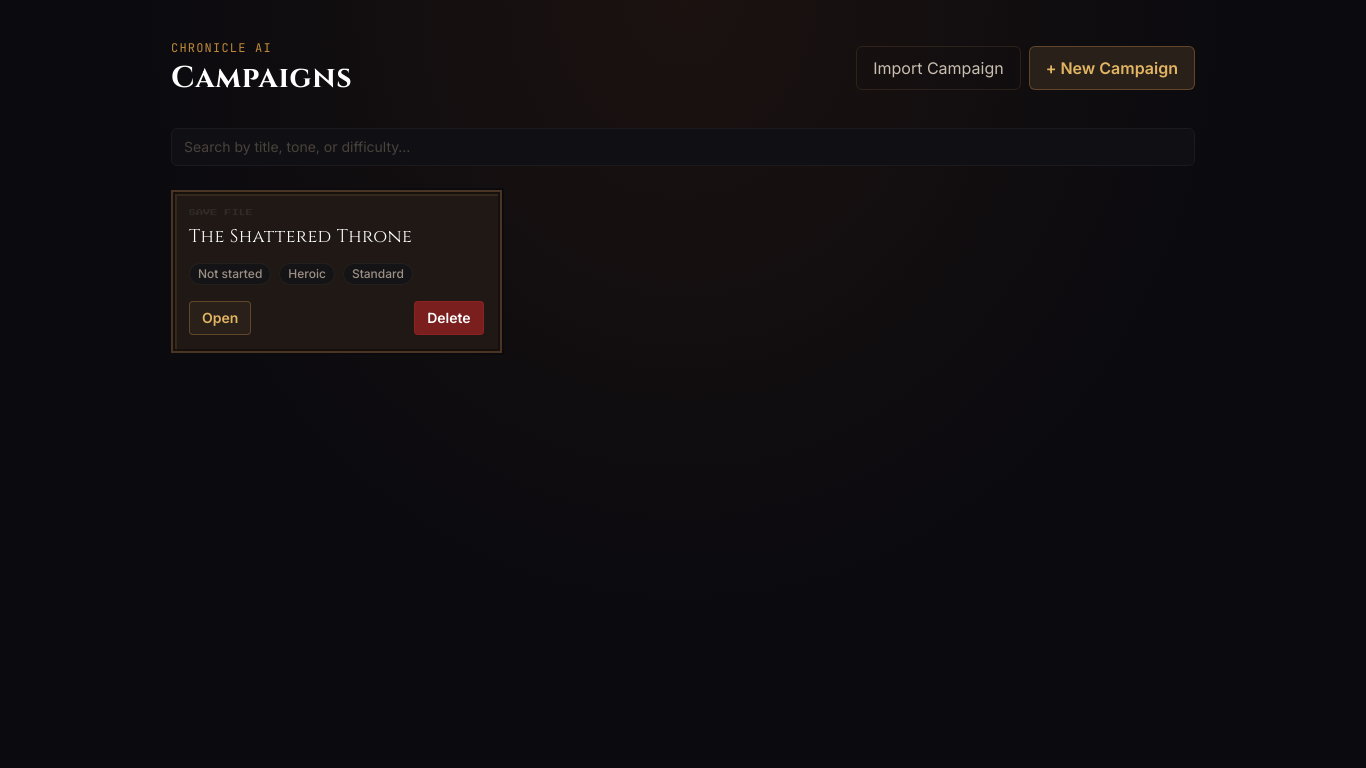
it: CampaignLibraryPage — delete › opens a confirm dialog when Delete is clicked, does not delete immediately
The width and height of the screenshot is (1366, 768).
Check: the heading "The Shattered Throne" is shown, box [189,224,412,248]
Click the button "Delete": (449,318) [414,300,484,334]
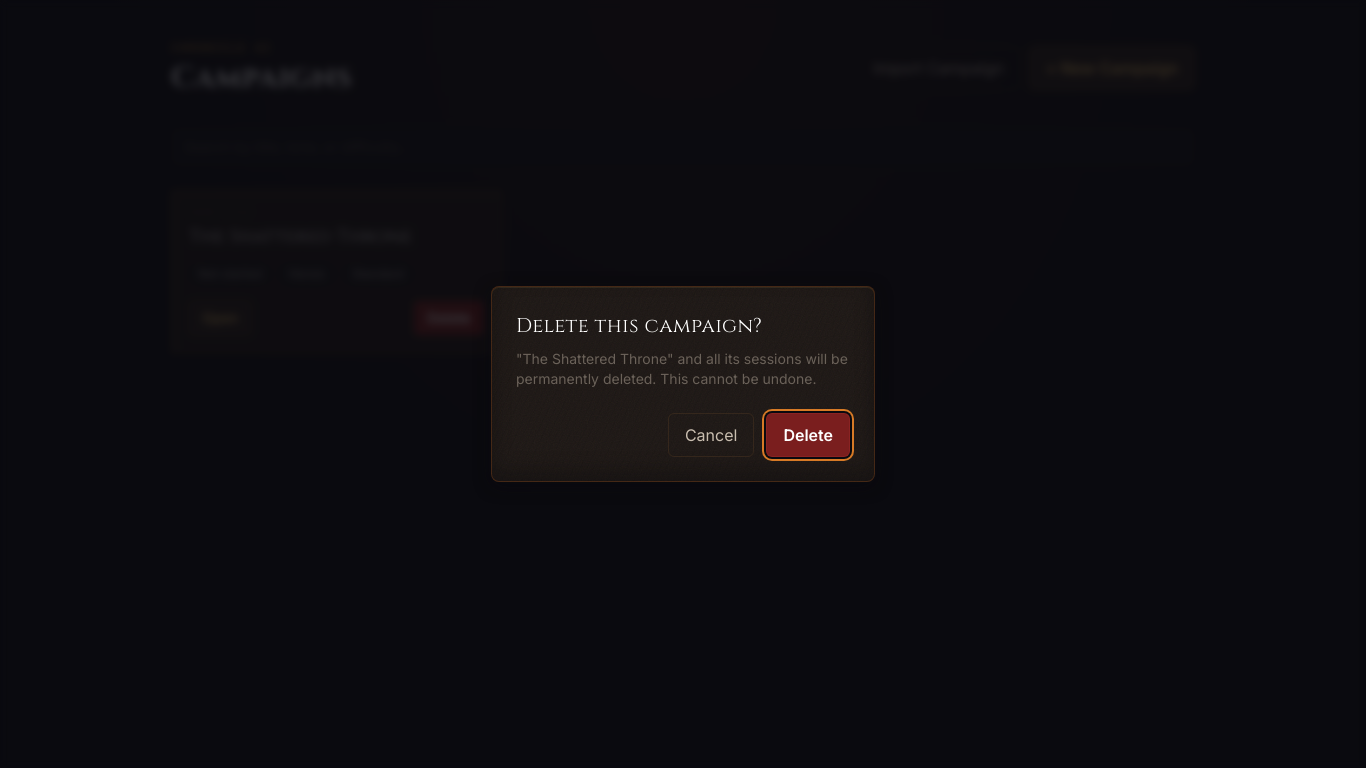
Check: the dialog is shown, box [491,286,875,482]
